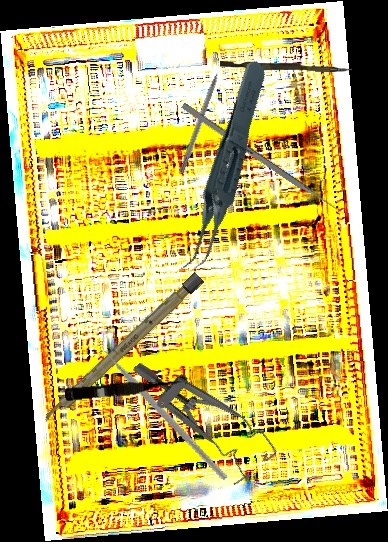Chopper: (73, 332, 256, 481)
Hook Surgical: (178, 60, 226, 175)
Micro Scissor: (64, 375, 186, 405)
Pusher: (180, 102, 349, 219), (219, 60, 353, 73)
Scalpel Handle: (40, 271, 205, 427)
Speculum: (130, 328, 281, 496)
Tissue Forceps: (137, 57, 307, 281)
